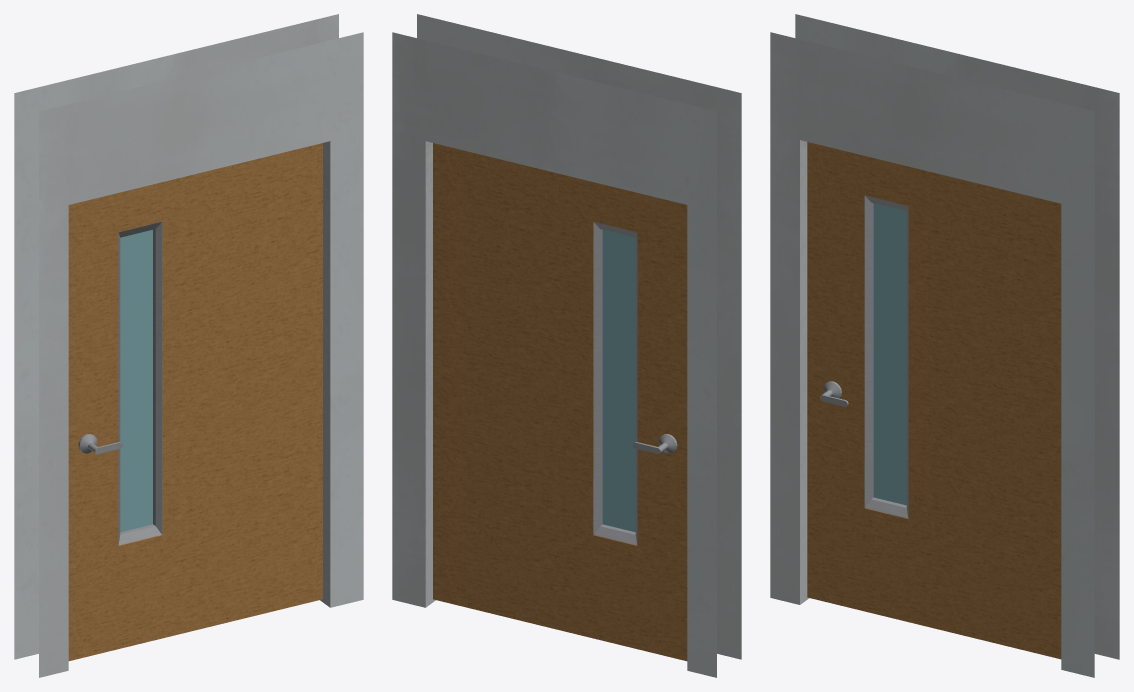
File: interior_door_1.gltf
3 views of the same model, side by side, from view 1: azimuth 30°, elevation 25°; view 2: azimuth 150°, elevation 25°; view 3: azimuth 330°, elevation 25° (orthographic).
Parts seen in each view (by area): view 1: Cube.002; view 2: Cube.002; view 3: Cube.002.
Boxes of the visible parts, <box> form: Cube.002: <box>14,14,363,677</box>; Cube.002: <box>392,14,741,677</box>; Cube.002: <box>770,14,1119,677</box>.
Bounding box in the file's own units: 3.03 × 5.05 × 0.5137.
Materials: 2 (2 with a texture image).
